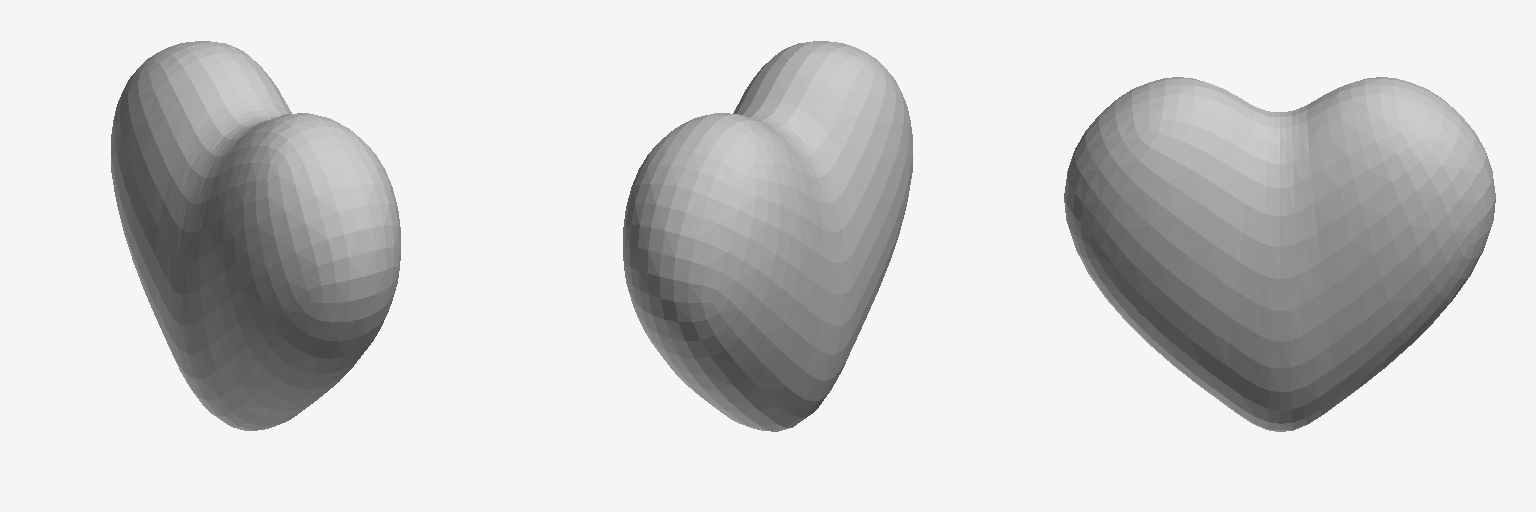
The model's file is heart_ts01.obj.
3 views of the same model, side by side, from view 1: azimuth 30°, elevation 25°; view 2: azimuth 150°, elevation 25°; view 3: azimuth 270°, elevation 25° (orthographic).
Parts seen in each view (by area): view 1: Heart_; view 2: Heart_; view 3: Heart_.
Boxes of the visible parts, x1=… form: Heart_: x1=111, y1=41, x2=400, y2=430; Heart_: x1=623, y1=41, x2=912, y2=431; Heart_: x1=1064, y1=77, x2=1495, y2=431.
Size of the model in its own units: 9.72 by 20.04 by 22.91.